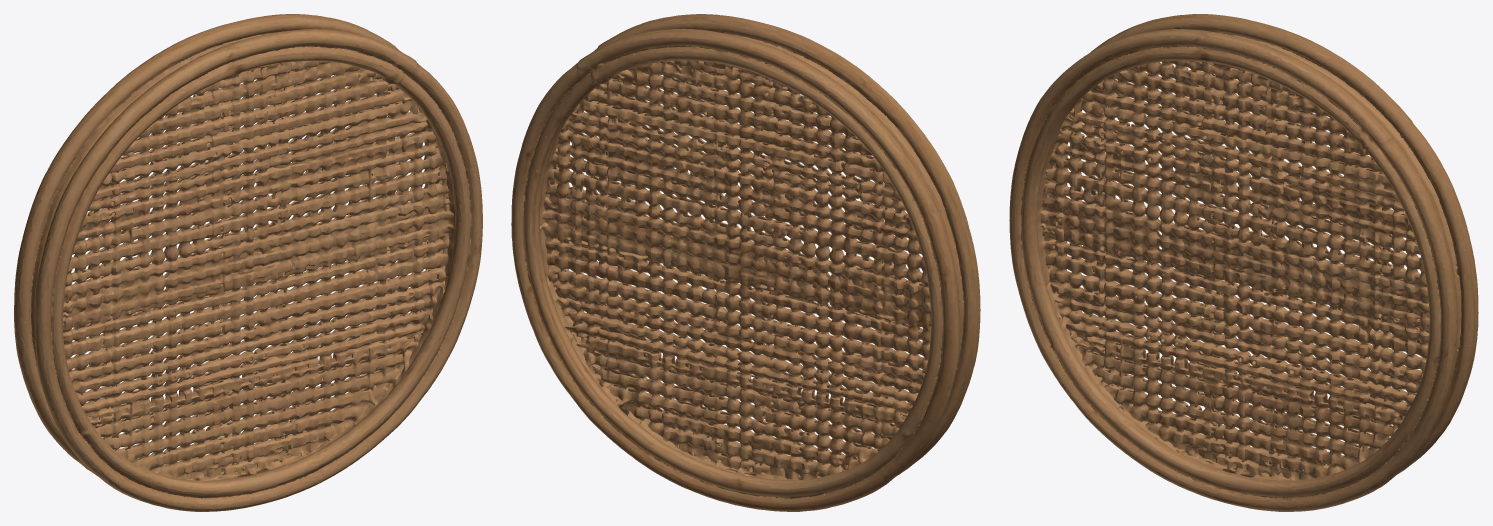
3 renders of one model, left to right at view 1: azimuth 30°, elevation 25°; view 2: azimuth 150°, elevation 25°; view 3: azimuth 330°, elevation 25°, orthographic.
Parts seen in each view (by area): view 1: geometry_0; view 2: geometry_0; view 3: geometry_0.
Boxes of the visible parts, <box> form: geometry_0: <box>14,14,482,511</box>; geometry_0: <box>511,14,980,511</box>; geometry_0: <box>1009,14,1478,511</box>.
Size of the model in its own units: 0.35 by 0.3498 by 0.0421.
Materials: 1 (1 with a texture image).
